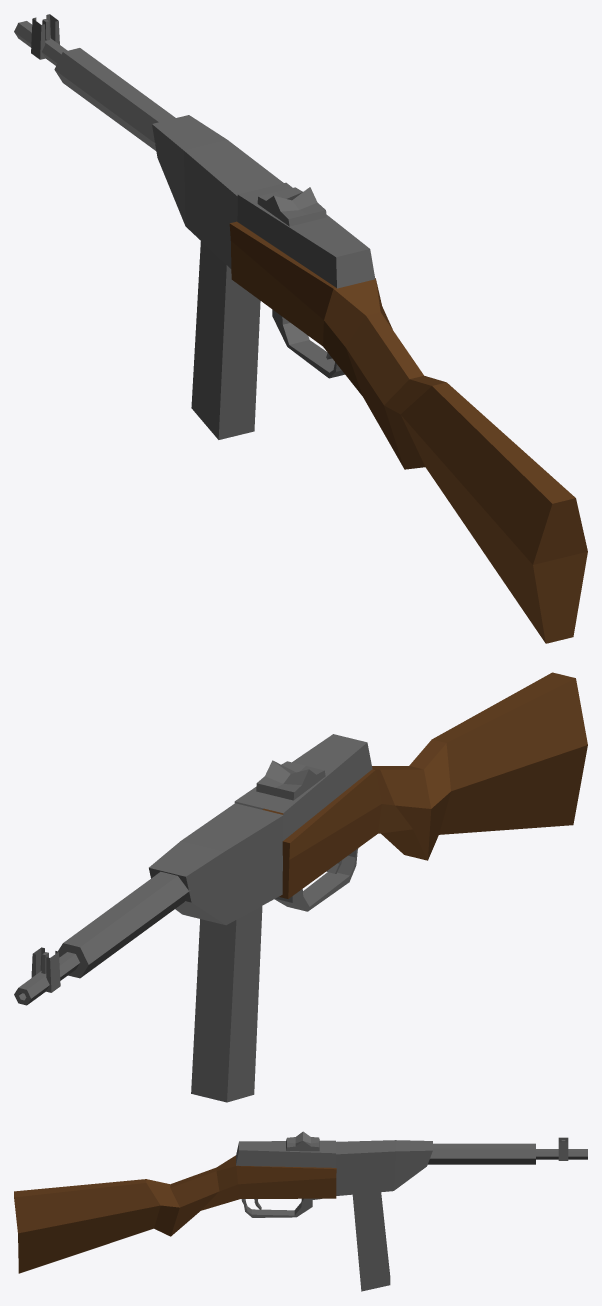
Rendered from smg62.glb.
3 renders of one model, top to bottom at view 1: azimuth 30°, elevation 25°; view 2: azimuth 150°, elevation 25°; view 3: azimuth 270°, elevation 25°, orthographic. The views are drawn at different scales.
Visible parts, largest first — view 1: gun_body, magazine, gun_body_2, chamber, barrel.001, Cube, aim; view 2: gun_body, magazine, gun_body_2, chamber, barrel.001, Cube, barrel, aim; view 3: gun_body, gun_body_2, magazine, chamber, barrel.001, Cube, barrel, aim.
Part boxes in pixels (x1,y1,x2,y2): gun_body: (229,221,587,643); magazine: (191,241,260,439); gun_body_2: (152,115,283,268); chamber: (237,182,375,288); barrel.001: (54,48,175,150); Cube: (272,309,344,378); aim: (31,14,59,59); gun_body: (262,672,587,898); magazine: (191,906,262,1102); gun_body_2: (149,803,283,925); chamber: (234,734,372,840); barrel.001: (58,871,190,978); Cube: (274,848,358,911); barrel: (14,952,79,1005); aim: (31,947,60,992); gun_body: (14,1155,336,1273); gun_body_2: (336,1140,432,1195); magazine: (352,1192,390,1291); chamber: (236,1131,335,1167); barrel.001: (428,1143,535,1164); Cube: (241,1198,321,1217); barrel: (536,1149,587,1159); aim: (558,1137,568,1160).
Size of the model in its own units: 0.0465 by 0.2072 by 0.7139.
